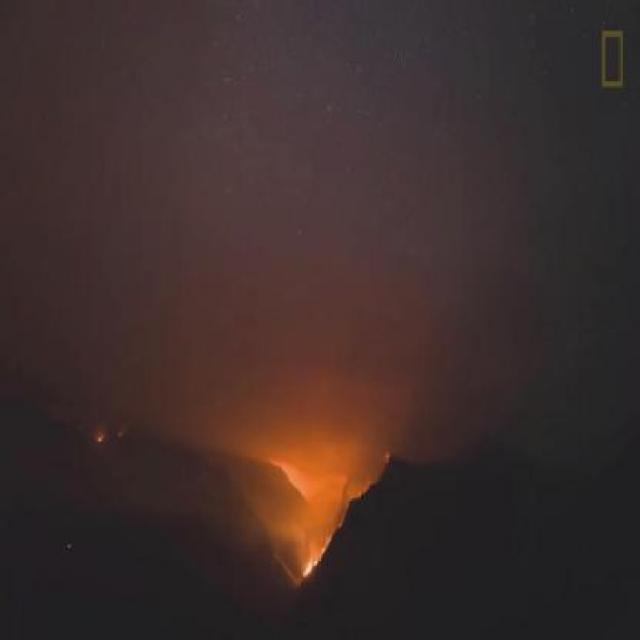Fire: (302, 534, 332, 580), (98, 429, 102, 443)
